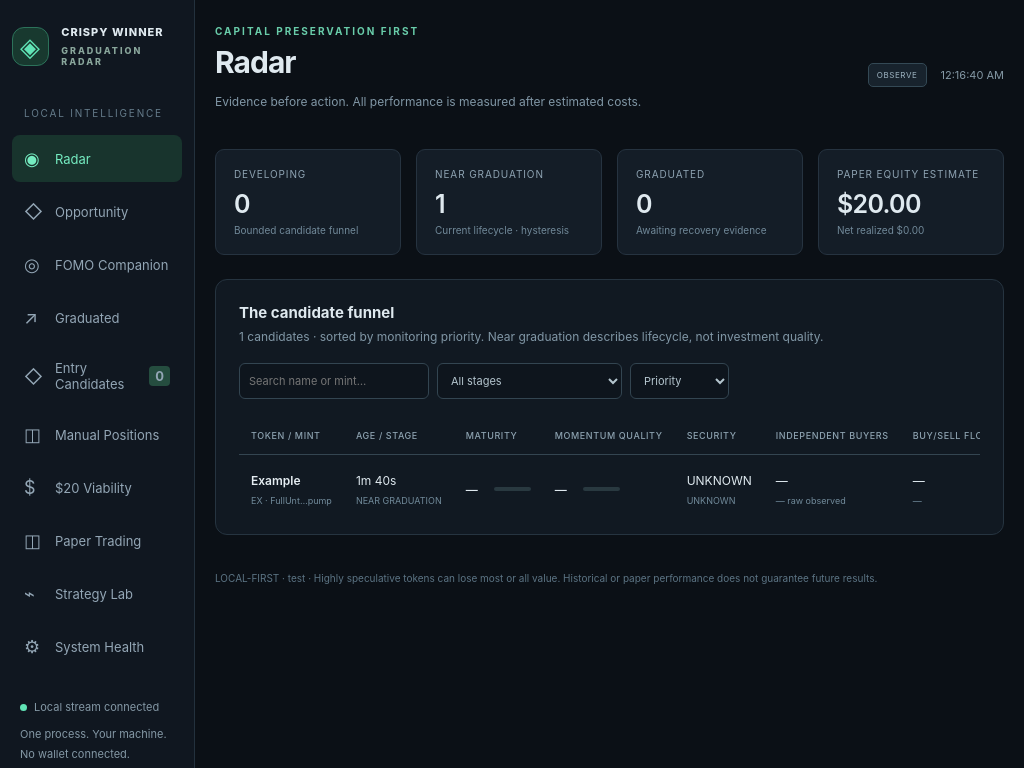
system health shows bounded multi-hop recovery diagnostics without upgrading flow
Click the button "⚙ System Health": click(97, 646) [12,623,182,670]
(page scrolled)
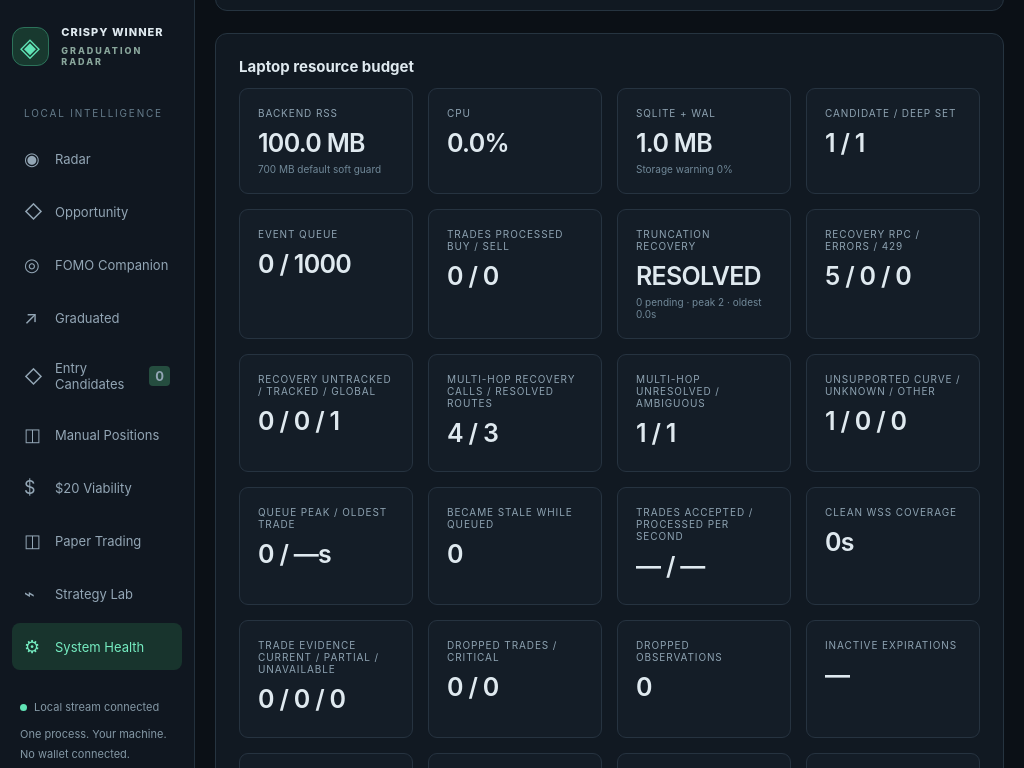
Result: the text "Multi-hop recovery calls / resolved routes" is shown at [447,373,583,409]
Result: the text "4 / 3" is shown at [447,418,498,448]
Result: the text "Unsupported curve / unknown / other" is shown at [825,373,961,397]
